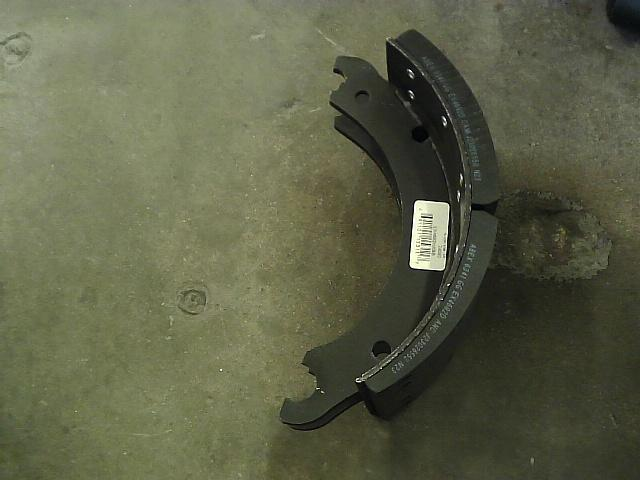brake-shoes: (278, 26, 504, 432)
